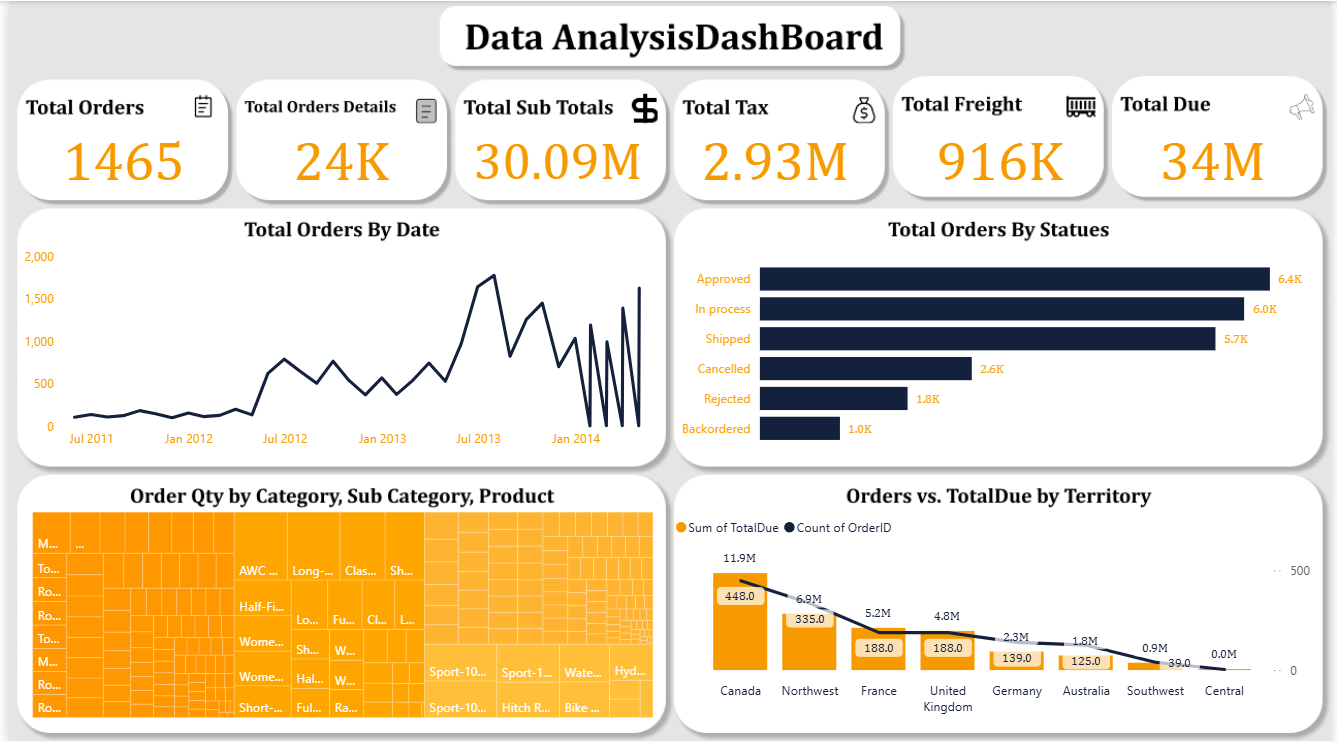

The dashboard page shown, as its layout file describes it:
{"tool":"powerbi","page":{"name":"Page 2","canvas":[1280,720],"ordinal":0},"visuals":[{"type":"card","fields":{"Values":["DaxMeasures.T_orders"]},"box":[34.3,118,155.1,67.2],"z":0},{"type":"card","fields":{"Values":["DaxMeasures.T_OrderDetails"]},"box":[244.3,118,155.1,67.2],"z":1000},{"type":"card","fields":{"Values":["DaxMeasures.T_SubTotal"]},"box":[441.9,118,179.8,67.2],"z":2000},{"type":"card","fields":{"Values":["DaxMeasures.T_tax"]},"box":[658.7,118,167.4,67.2],"z":3000},{"type":"card","fields":{"Values":["DaxMeasures.T_freight"]},"box":[874.1,118,171.5,67.2],"z":4000},{"type":"card","fields":{"Values":["DaxMeasures.T_due"]},"box":[1088.2,118,155.1,67.2],"z":5000},{"type":"lineChart","fields":{"Category":["SalesFact.OrderDate"],"Y":["CountNonNull(SalesFact.OrderID)"]},"box":[9.6,233.3,629.8,208.6],"z":6000},{"type":"clusteredBarChart","fields":{"Category":["StatusDim.Status"],"Y":["CountNonNull(SalesFact.OrderID)"]},"box":[640,233.3,625.6,208.9],"z":7000},{"type":"lineStackedColumnComboChart","fields":{"Category":["TerritoryDim.Territory"],"Y":["Sum(SalesFact.TotalDue)"],"Y2":["Count(SalesFact.OrderID)"]},"box":[640,490,625.6,208.9],"z":9000},{"type":"treemap","fields":{"Group":["ProductDim.ProductCategory","ProductDim.ProductSubCategory"],"Details":["ProductDim.Product"],"Values":["Sum(SalesFact.OrderQty)"]},"box":[18.6,490.3,610.6,208.8],"z":9001}]}

Visuals, with their boxes in screenshot pixels (x1, y1, x2, y2), scaled from the page's 1280x720 canvas onto the 1337x742 screenshot:
card - DaxMeasures.T_orders: locate(36, 122, 198, 191)
card - DaxMeasures.T_OrderDetails: locate(255, 122, 417, 191)
card - DaxMeasures.T_SubTotal: locate(462, 122, 649, 191)
card - DaxMeasures.T_tax: locate(688, 122, 863, 191)
card - DaxMeasures.T_freight: locate(913, 122, 1092, 191)
card - DaxMeasures.T_due: locate(1137, 122, 1299, 191)
lineChart - SalesFact.OrderDate x CountNonNull(SalesFact.OrderID): locate(10, 240, 668, 455)
clusteredBarChart - StatusDim.Status x CountNonNull(SalesFact.OrderID): locate(668, 240, 1322, 456)
lineStackedColumnComboChart - TerritoryDim.Territory x Sum(SalesFact.TotalDue): locate(668, 505, 1322, 720)
treemap - ProductDim.ProductCategory x ProductDim.ProductSubCategory: locate(19, 505, 657, 720)
